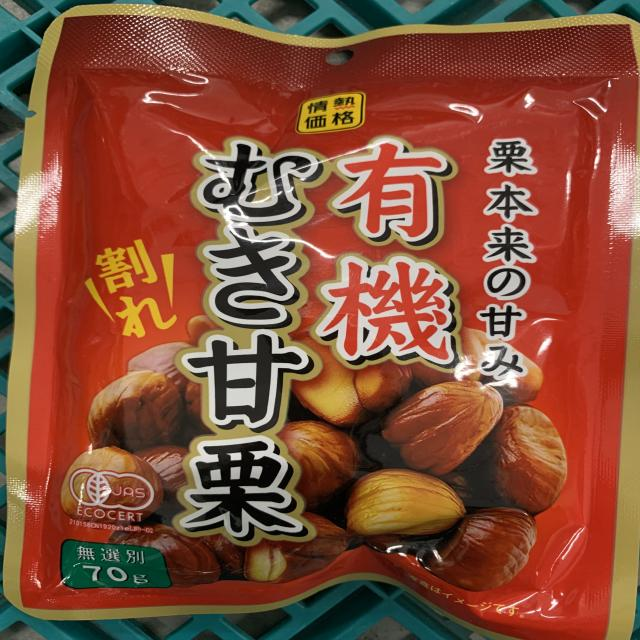object_name: (46, 11, 634, 633)
